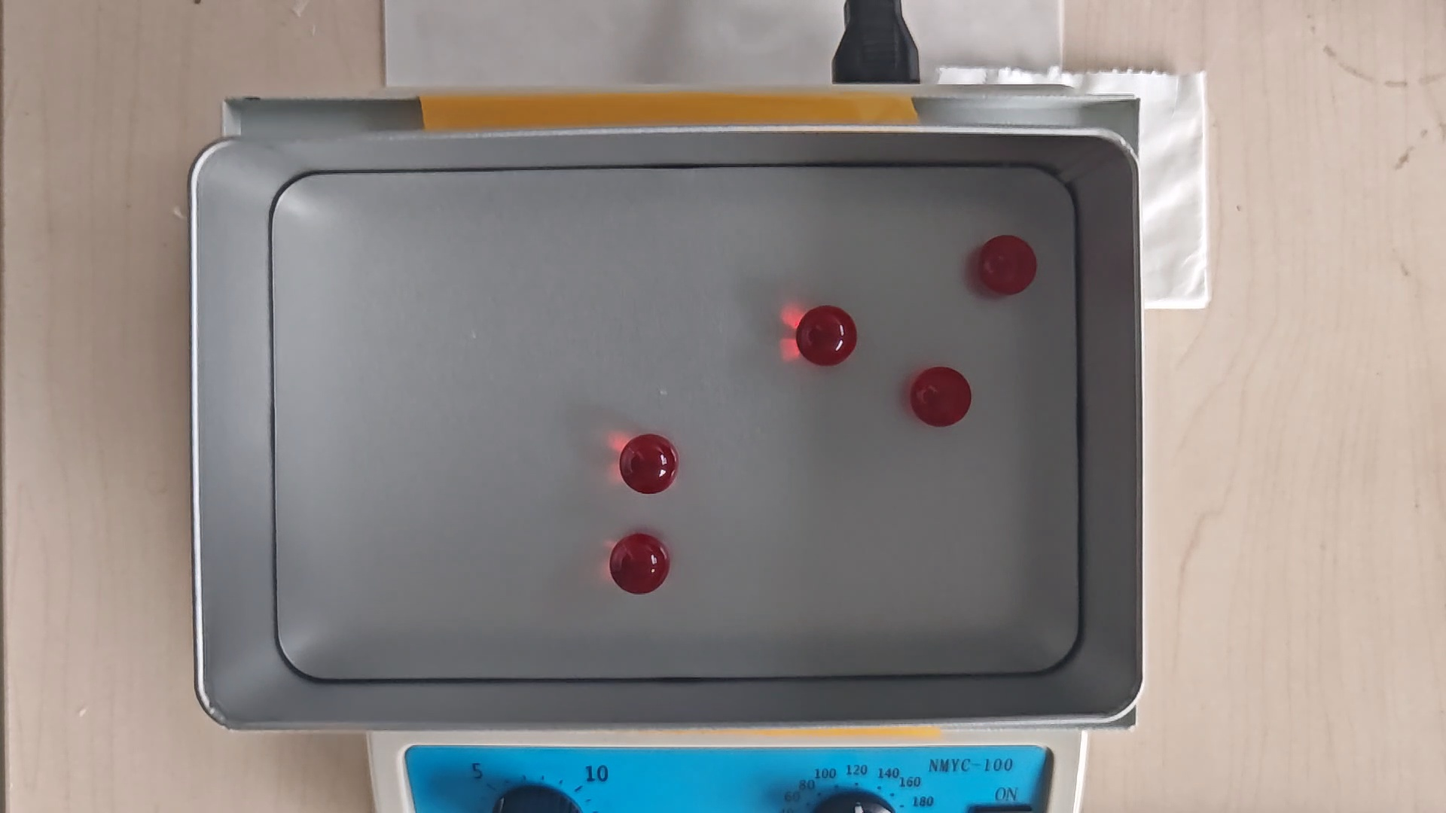ball: (911, 367, 972, 429), (795, 305, 856, 366), (979, 236, 1039, 296), (612, 534, 670, 595), (620, 434, 679, 493)
container: (273, 165, 1079, 679)
